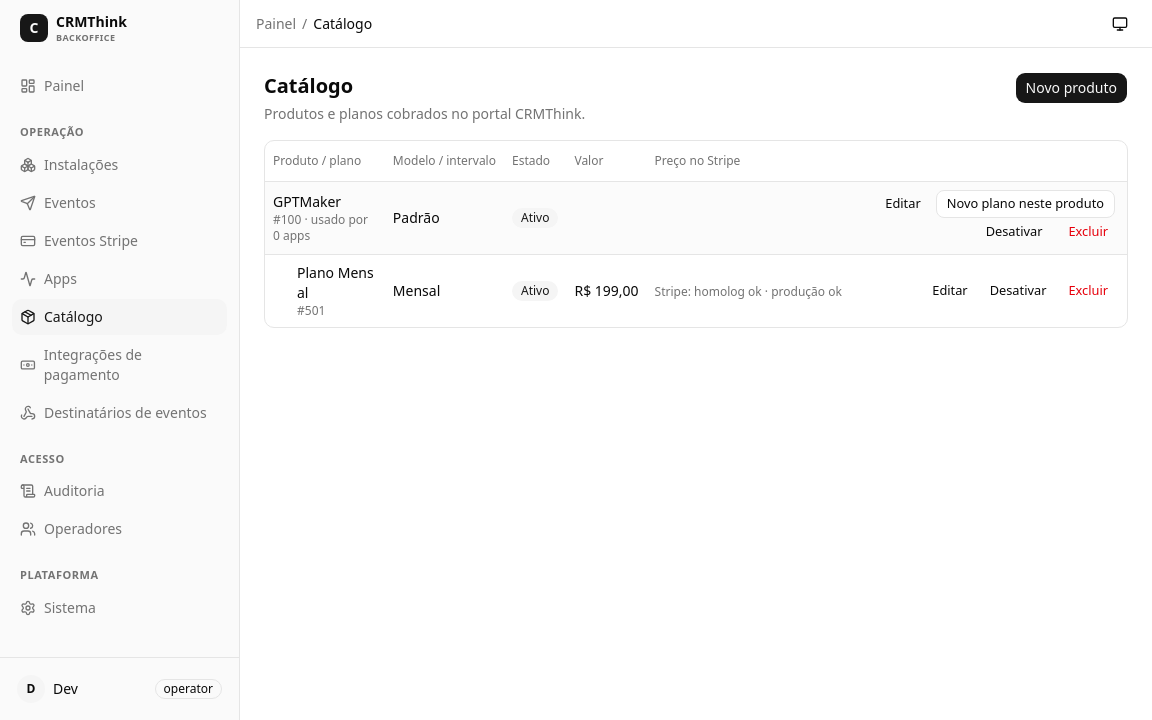
excluir e desativar › 409 no DELETE reabre o aviso de uso
Click the button with aria-label "Excluir plano Plano Mensal" at (1088,290), box x1=1057 y1=276 x2=1119 y2=304
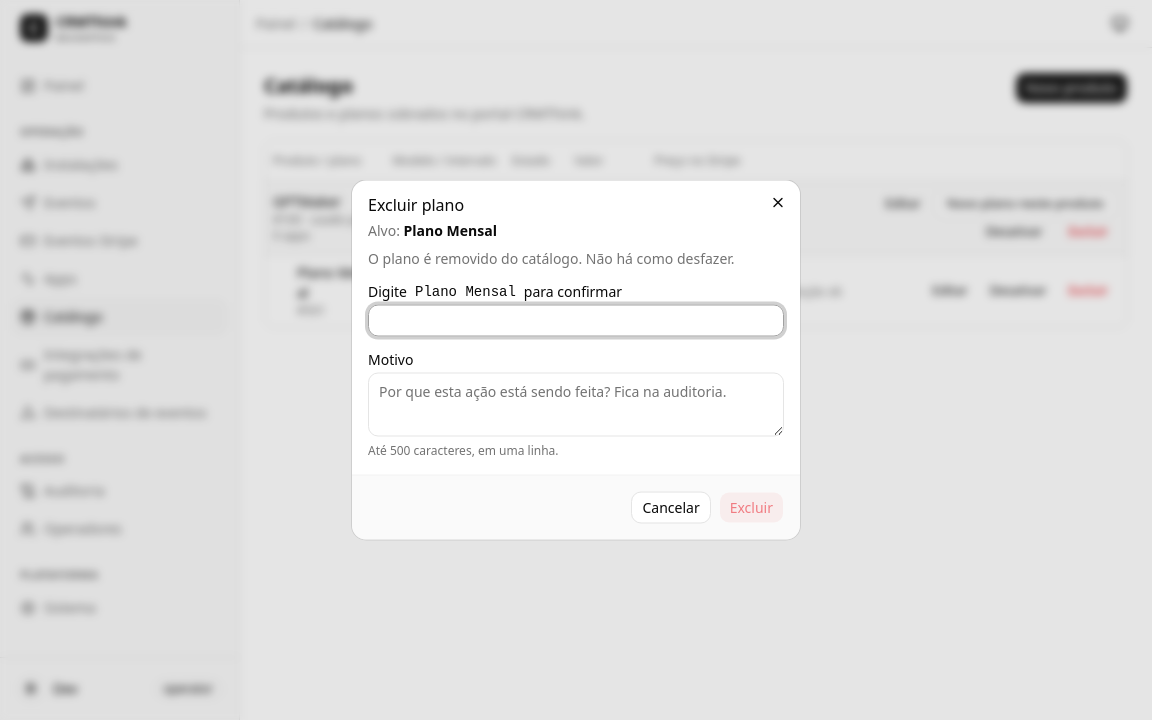
Type "Plano Mensal" into the field labelled "Digite Plano Mensal para confirmar" at (576,320), box x1=368 y1=304 x2=784 y2=336
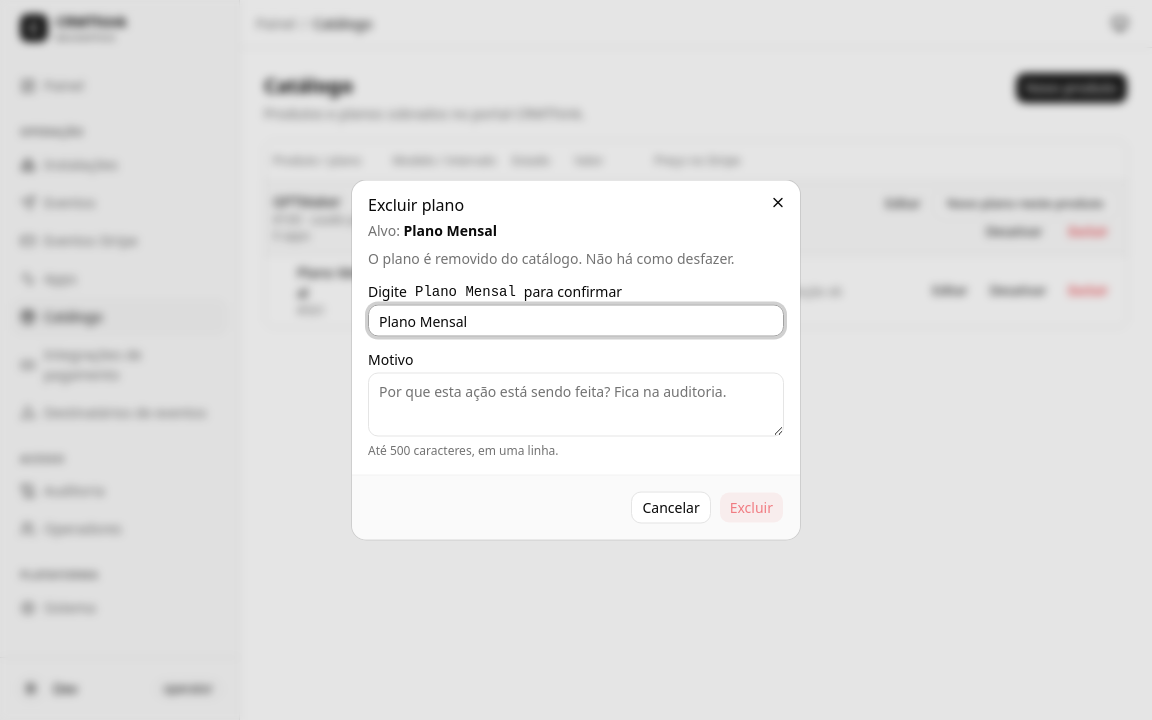
Type "Duplicado" into the text box labelled "Motivo" at (576,404), box x1=368 y1=372 x2=784 y2=436
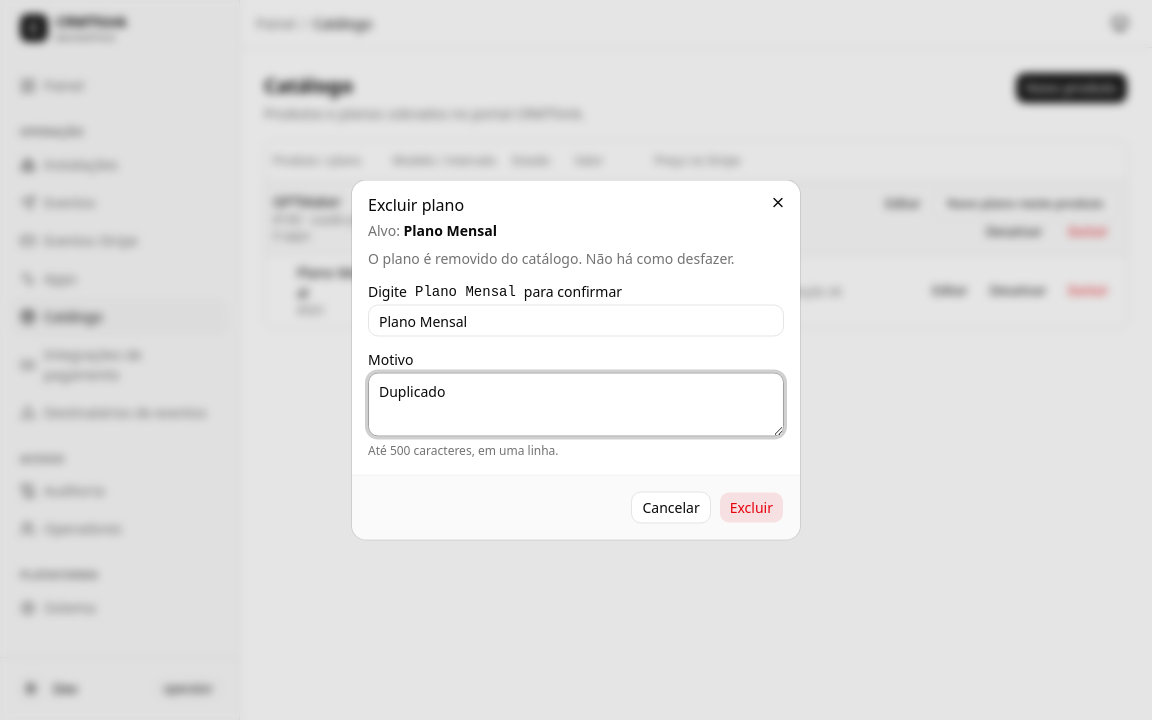
Click the button "Excluir" at (751,508), box x1=719 y1=492 x2=784 y2=524
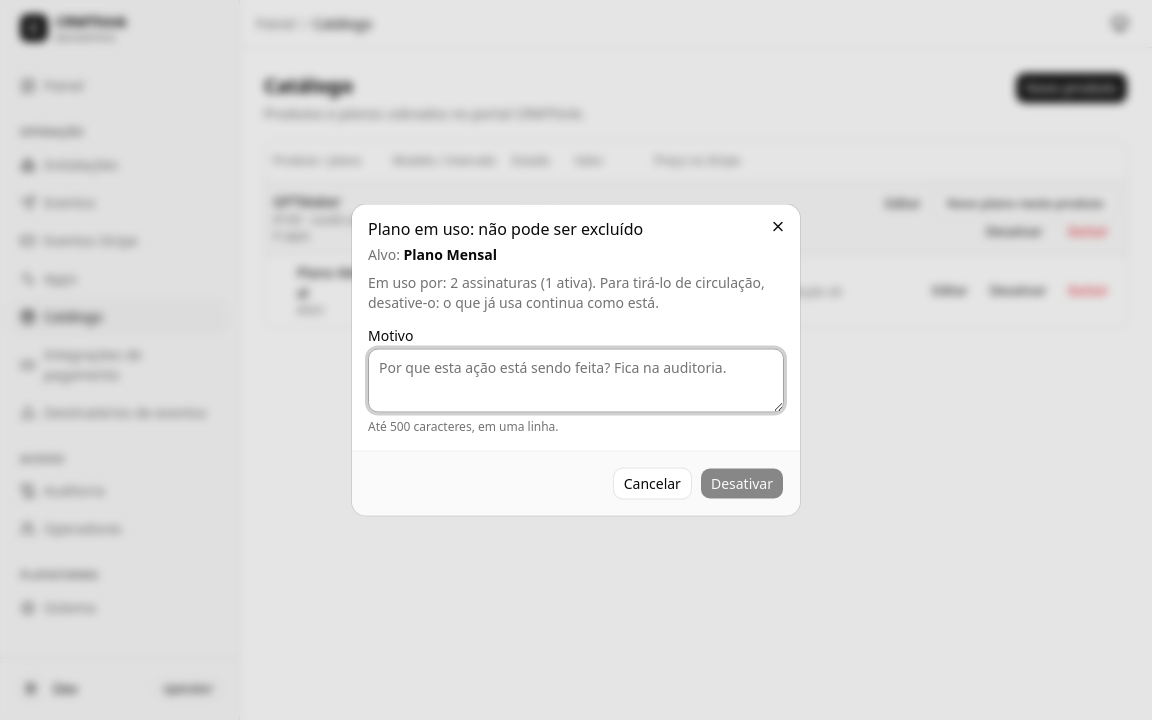
Expected: the text "2 assinaturas (1 ativa)" is shown, x1=450 y1=272 x2=592 y2=292
Expected: the button "Desativar" is disabled, x1=700 y1=468 x2=784 y2=500
